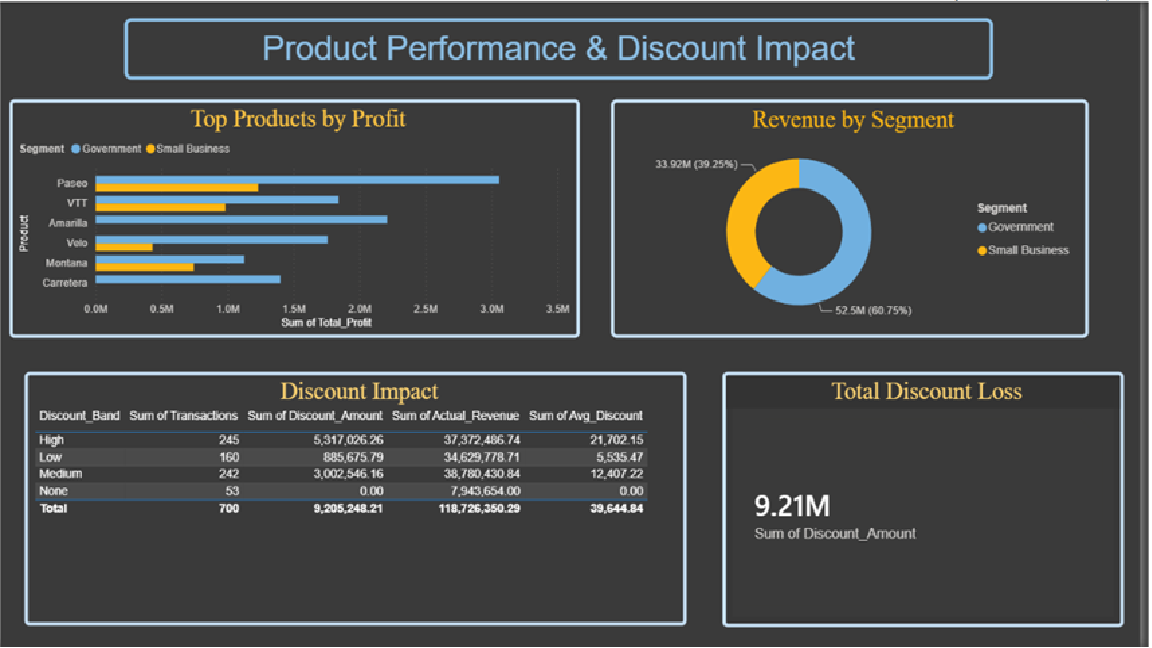

Layout of this report page (visuals, bound fields, positions):
{"tool":"powerbi","page":{"name":"Product Analysis","canvas":[1280,720],"ordinal":2},"visuals":[{"type":"textbox","box":[138.7,18.1,976,68.8],"z":0},{"type":"clusteredBarChart","title":"Top Products by Profit","fields":{"Category":["top_products.Product"],"Y":["Sum(top_products.Total_Profit)"],"Series":["top_products.Segment"]},"box":[9.7,108.6,640.6,266.6],"z":1000},{"type":"donutChart","title":"Revenue by Segment","fields":{"Category":["top_products.Segment"],"Y":["Sum(top_products.Total_Sales)"]},"box":[685.3,108.6,536.9,266.6],"z":2000},{"type":"tableEx","title":"Discount Impact","fields":{"Values":["discount_analysis.Discount_Band","Sum(discount_analysis.Transactions)","Sum(discount_analysis.Discount_Amount)","Sum(discount_analysis.Actual_Revenue)","Sum(discount_analysis.Avg_Discount)"]},"box":[26.5,412.6,744.4,283.5],"z":3000},{"type":"cardVisual","title":"Total Discount Loss","fields":{"Data":["Sum(discount_analysis.Discount_Amount)"]},"box":[810.7,412.6,451.2,284.7],"z":4000}]}

Visuals, with their boxes in screenshot pixels (x1, y1, x2, y2), scaled from the page's 1280x720 canvas onto the 1152x648 screenshot:
textbox: region(125, 16, 1003, 78)
"Top Products by Profit" clusteredBarChart: region(9, 98, 585, 338)
"Revenue by Segment" donutChart: region(617, 98, 1100, 338)
"Discount Impact" tableEx: region(24, 371, 694, 626)
"Total Discount Loss" cardVisual: region(730, 371, 1136, 628)
